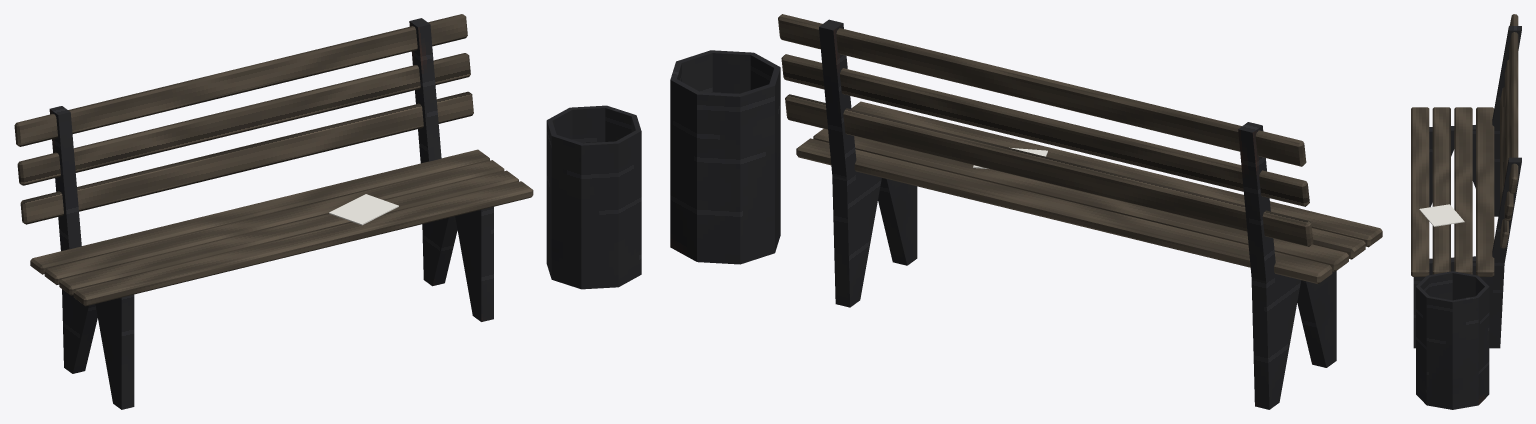
File: bench_yard.glb
The picture shows the model from 3 angles, left to right: view 1: azimuth 30°, elevation 25°; view 2: azimuth 150°, elevation 25°; view 3: azimuth 270°, elevation 25°; orthographic projection. The views are drawn at different scales.
Visible parts, largest first — view 1: bench_yard; view 2: bench_yard; view 3: bench_yard.
Boxes of the visible parts, x1,y1,x2,y2 form: bench_yard: (14, 14, 641, 409); bench_yard: (670, 14, 1382, 409); bench_yard: (1411, 14, 1521, 409).
Size of what is drawn, in the model's own units: 2.32 by 0.95 by 0.5125.
3 materials, 2 textured.
